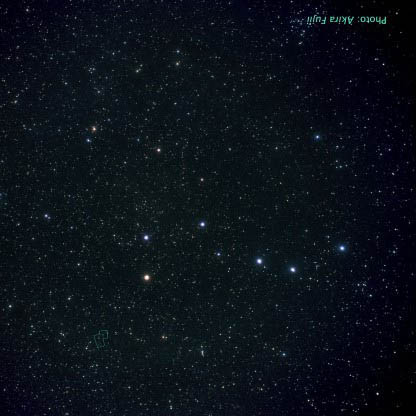Ursa Major: (286, 260, 303, 280), (212, 245, 228, 264), (248, 254, 267, 270), (139, 270, 154, 287), (337, 239, 353, 254), (195, 214, 208, 232), (142, 229, 154, 246)
